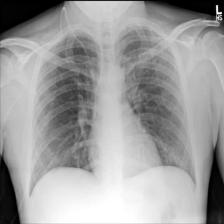normal: (25, 23, 198, 200)
